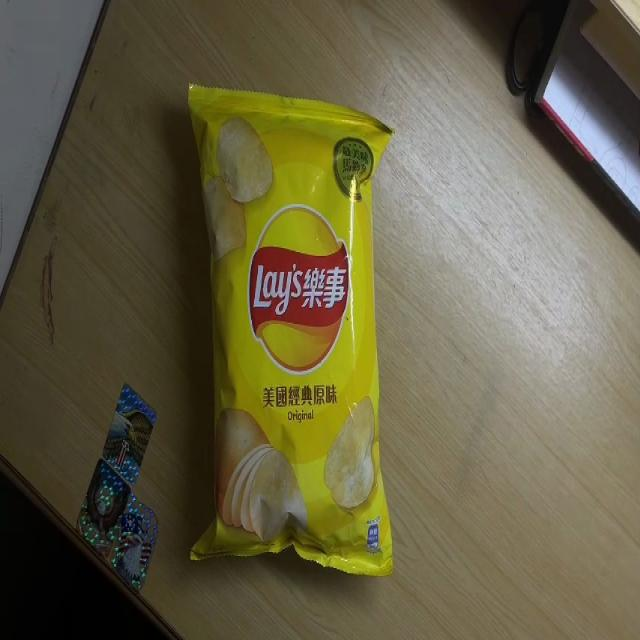Lay-s-original: (186, 82, 394, 581)
